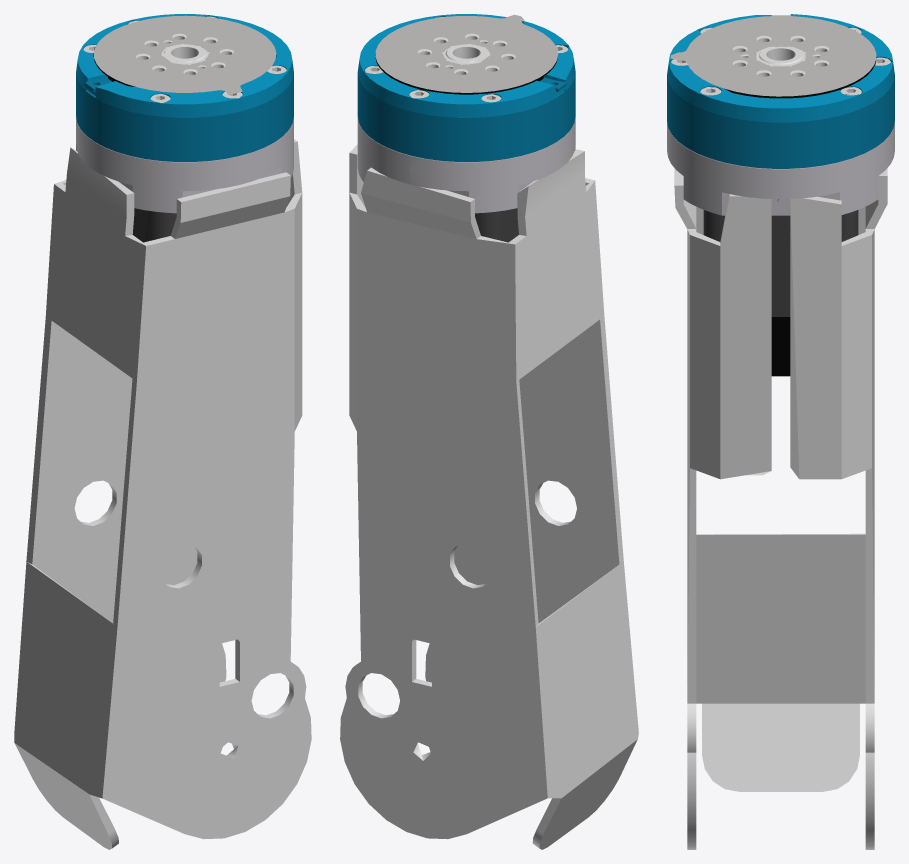
The model's file is r_upperarm_link.dae.
3 views of the same model, side by side, from view 1: azimuth 30°, elevation 25°; view 2: azimuth 150°, elevation 25°; view 3: azimuth 270°, elevation 25° (orthographic). The views are drawn at different scales.
Visible parts, largest first — view 1: FBXASC227FBXASC130FBXASC189FBXASC227FBXASC131FBXASC170FBXASC (×7); view 2: FBXASC227FBXASC130FBXASC189FBXASC227FBXASC131FBXASC170FBXASC (×7); view 3: FBXASC227FBXASC130FBXASC189FBXASC227FBXASC131FBXASC170FBXASC (×8).
Boxes of the visible parts, box(x1,y1,x2,y2) form: FBXASC227FBXASC130FBXASC189FBXASC227FBXASC131FBXASC170FBXASC (×7): box(14, 14, 311, 849); FBXASC227FBXASC130FBXASC189FBXASC227FBXASC131FBXASC170FBXASC (×7): box(340, 14, 638, 849); FBXASC227FBXASC130FBXASC189FBXASC227FBXASC131FBXASC170FBXASC (×8): box(667, 14, 894, 849).
Size of the model in its own units: 0.0749 by 0.062 by 0.2369.
